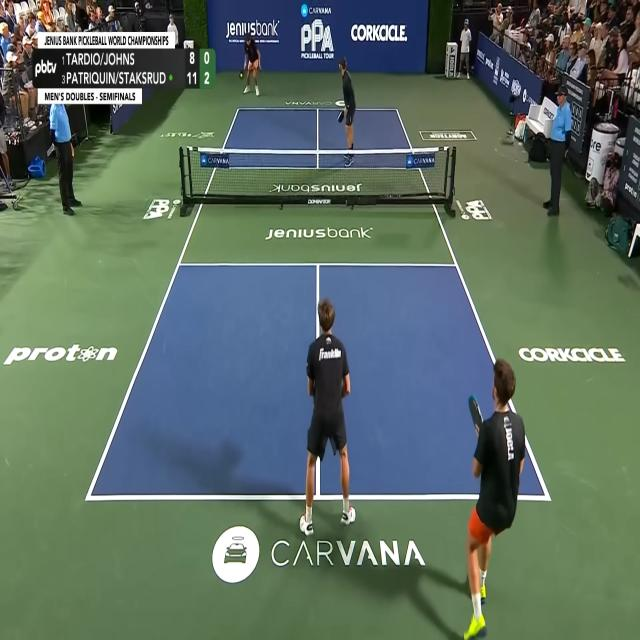ball: (240, 73, 243, 78)
